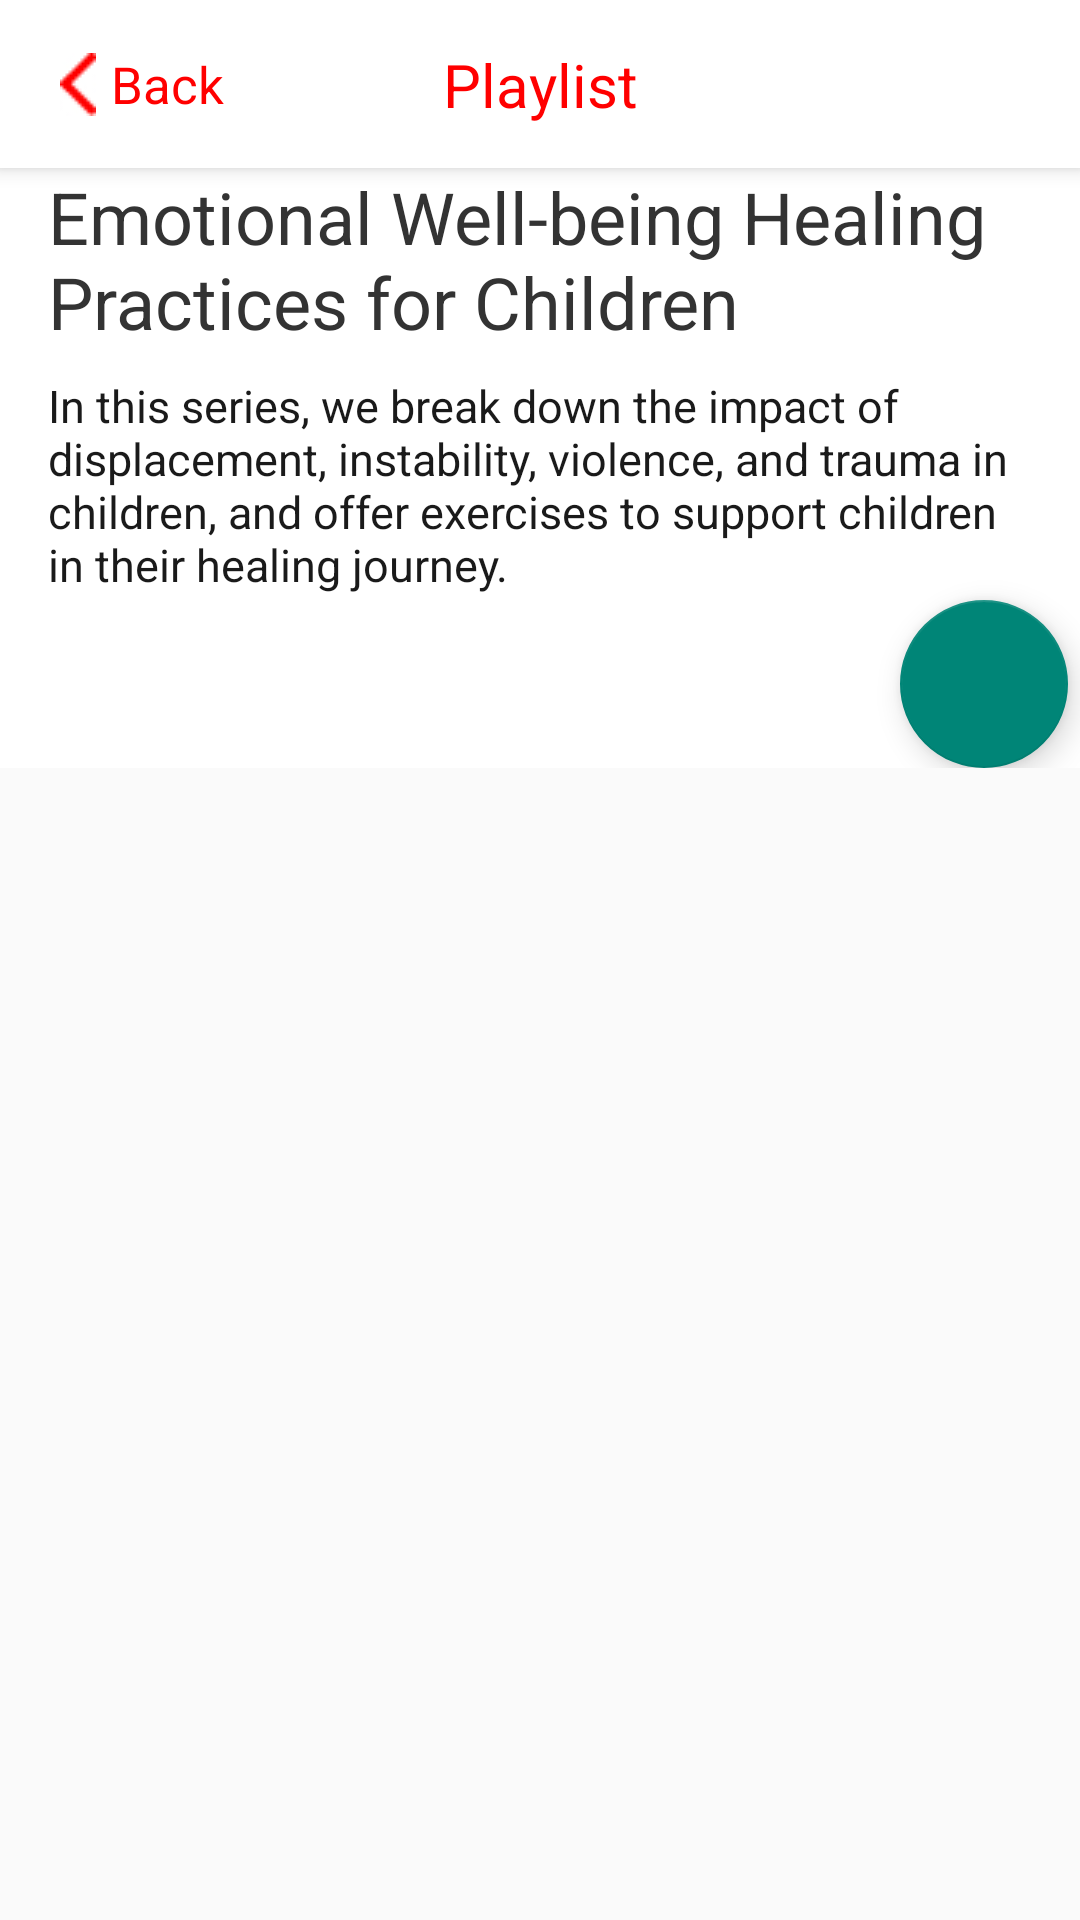

Icon bounding boxes for this 1080*1920 phone screenshot, format BBox(x1, y1, x2, y2):
arrow: BBox(60, 53, 96, 116)
